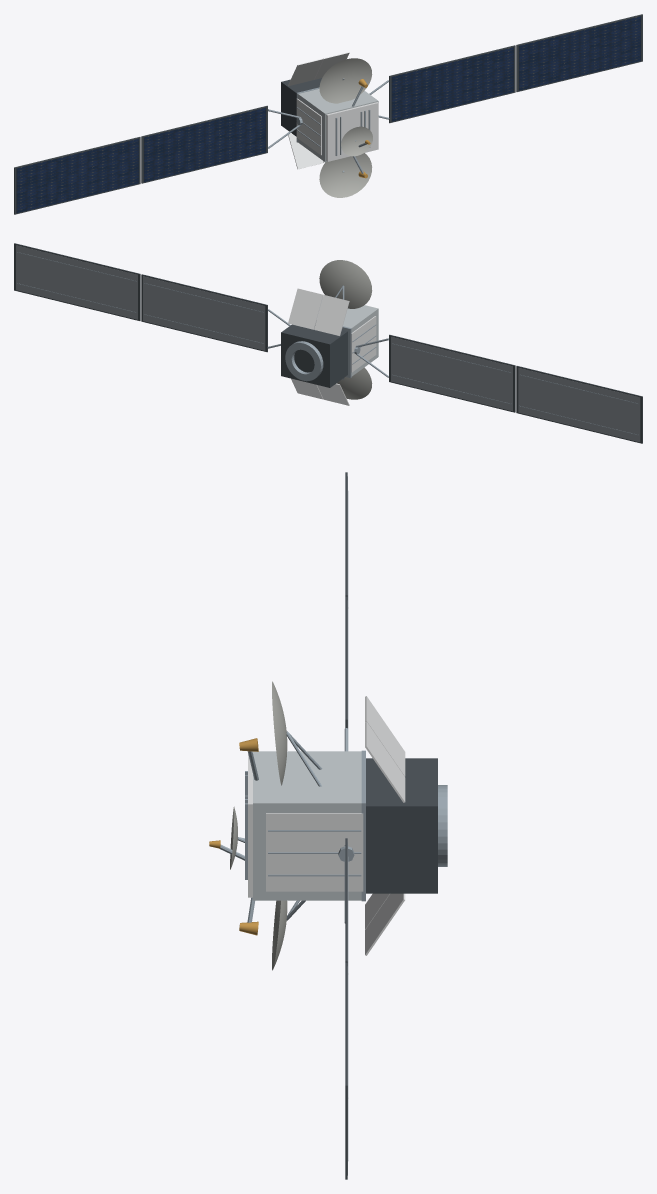
The model's file is a2100-pan.glb.
The picture shows the model from 3 angles, top to bottom: view 1: azimuth 30°, elevation 25°; view 2: azimuth 150°, elevation 25°; view 3: azimuth 270°, elevation 25°; orthographic projection. The views are drawn at different scales.
Parts seen in each view (by area): view 1: Solar cell panel (×4), Communications reflector (×2), Solar panel frame (×4), Earth-facing deck, Deployed radiator leaf (×3), Payload module, Service module, Radiator face, Deck-mounted reflector; view 2: Rear array substrate (×4), Solar panel frame (×4), Deployed radiator leaf (×4), Service module, Communications reflector (×2), Radiator face, Launch adapter ring, Payload module; view 3: Service module, Payload module, Radiator face, Deployed radiator leaf (×3).
Part boxes in pixels (bbox=[...]): Solar cell panel (×4): bbox=[16, 16, 641, 213]; Communications reflector (×2): bbox=[319, 58, 372, 197]; Solar panel frame (×4): bbox=[14, 14, 642, 214]; Earth-facing deck: bbox=[326, 102, 378, 161]; Deployed radiator leaf (×3): bbox=[288, 52, 349, 169]; Payload module: bbox=[298, 88, 378, 162]; Service module: bbox=[281, 78, 321, 136]; Radiator face: bbox=[296, 98, 321, 155]; Deck-mounted reflector: bbox=[341, 126, 372, 156]; Rear array substrate (×4): bbox=[16, 245, 640, 442]; Solar panel frame (×4): bbox=[14, 243, 642, 443]; Deployed radiator leaf (×4): bbox=[288, 288, 349, 405]; Service module: bbox=[281, 324, 347, 387]; Communications reflector (×2): bbox=[319, 260, 372, 399]; Radiator face: bbox=[351, 316, 376, 372]; Launch adapter ring: bbox=[285, 341, 323, 381]; Payload module: bbox=[317, 302, 378, 376]; Service module: bbox=[366, 758, 437, 893]; Payload module: bbox=[253, 751, 361, 900]; Radiator face: bbox=[266, 813, 363, 891]; Deployed radiator leaf (×3): bbox=[365, 696, 405, 955].
Size of the model in its own units: 25.95 by 5.45 by 4.27.
Materials: 8 (1 with a texture image).
